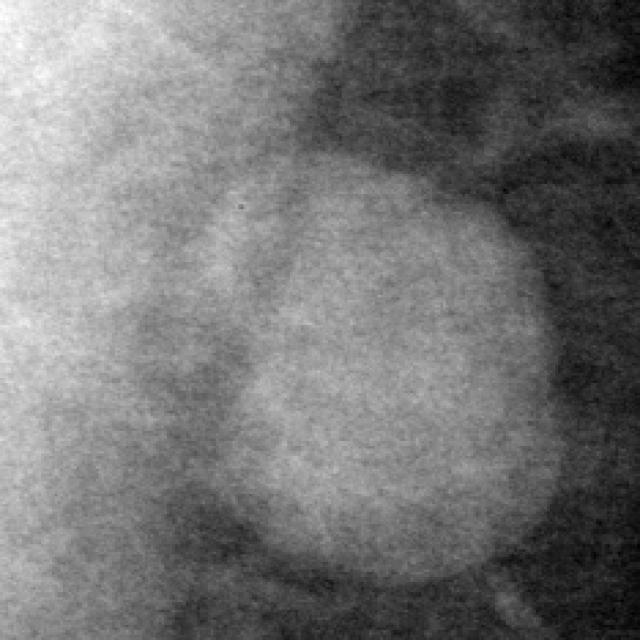normal: (145, 117, 605, 592)
